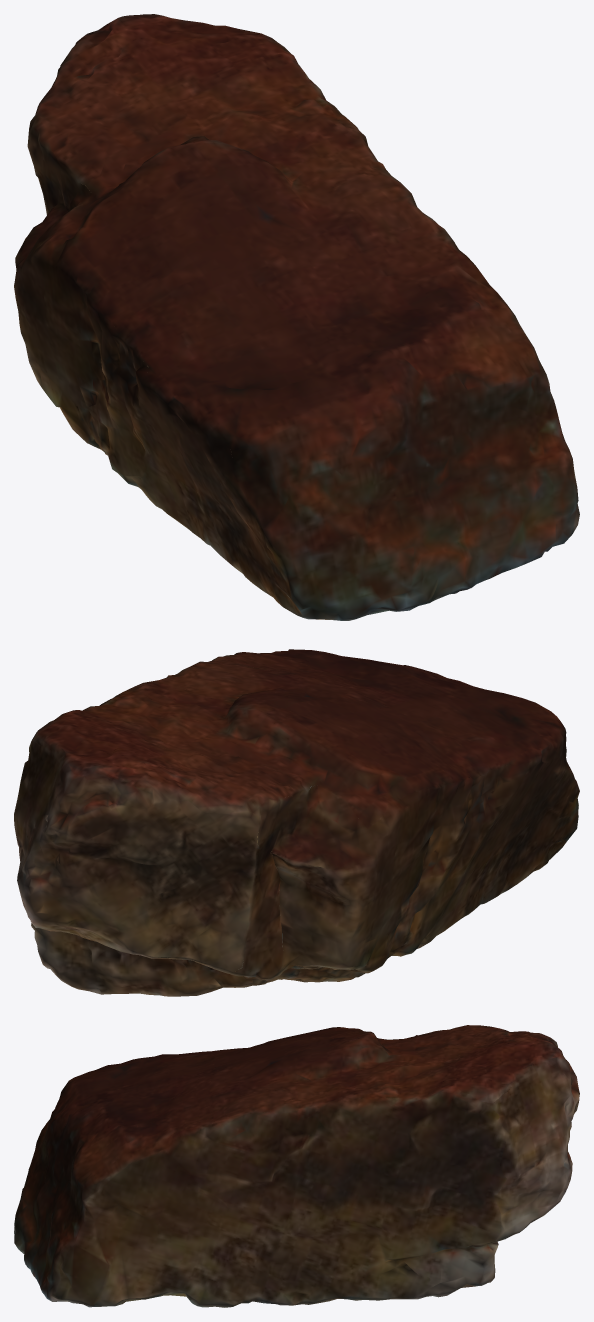
The model's file is slab.glb.
3 views of the same model, one above another, from view 1: azimuth 30°, elevation 25°; view 2: azimuth 150°, elevation 25°; view 3: azimuth 270°, elevation 25° (orthographic). The views are drawn at different scales.
Parts seen in each view (by area): view 1: rock_07; view 2: rock_07; view 3: rock_07.
Boxes of the visible parts, bbox=[...] form: rock_07: bbox=[14, 14, 579, 620]; rock_07: bbox=[14, 649, 579, 996]; rock_07: bbox=[14, 1025, 579, 1307].
Bounding box in the file's own units: 0.169 × 0.1437 × 0.3202.
1 material, 1 textured.
